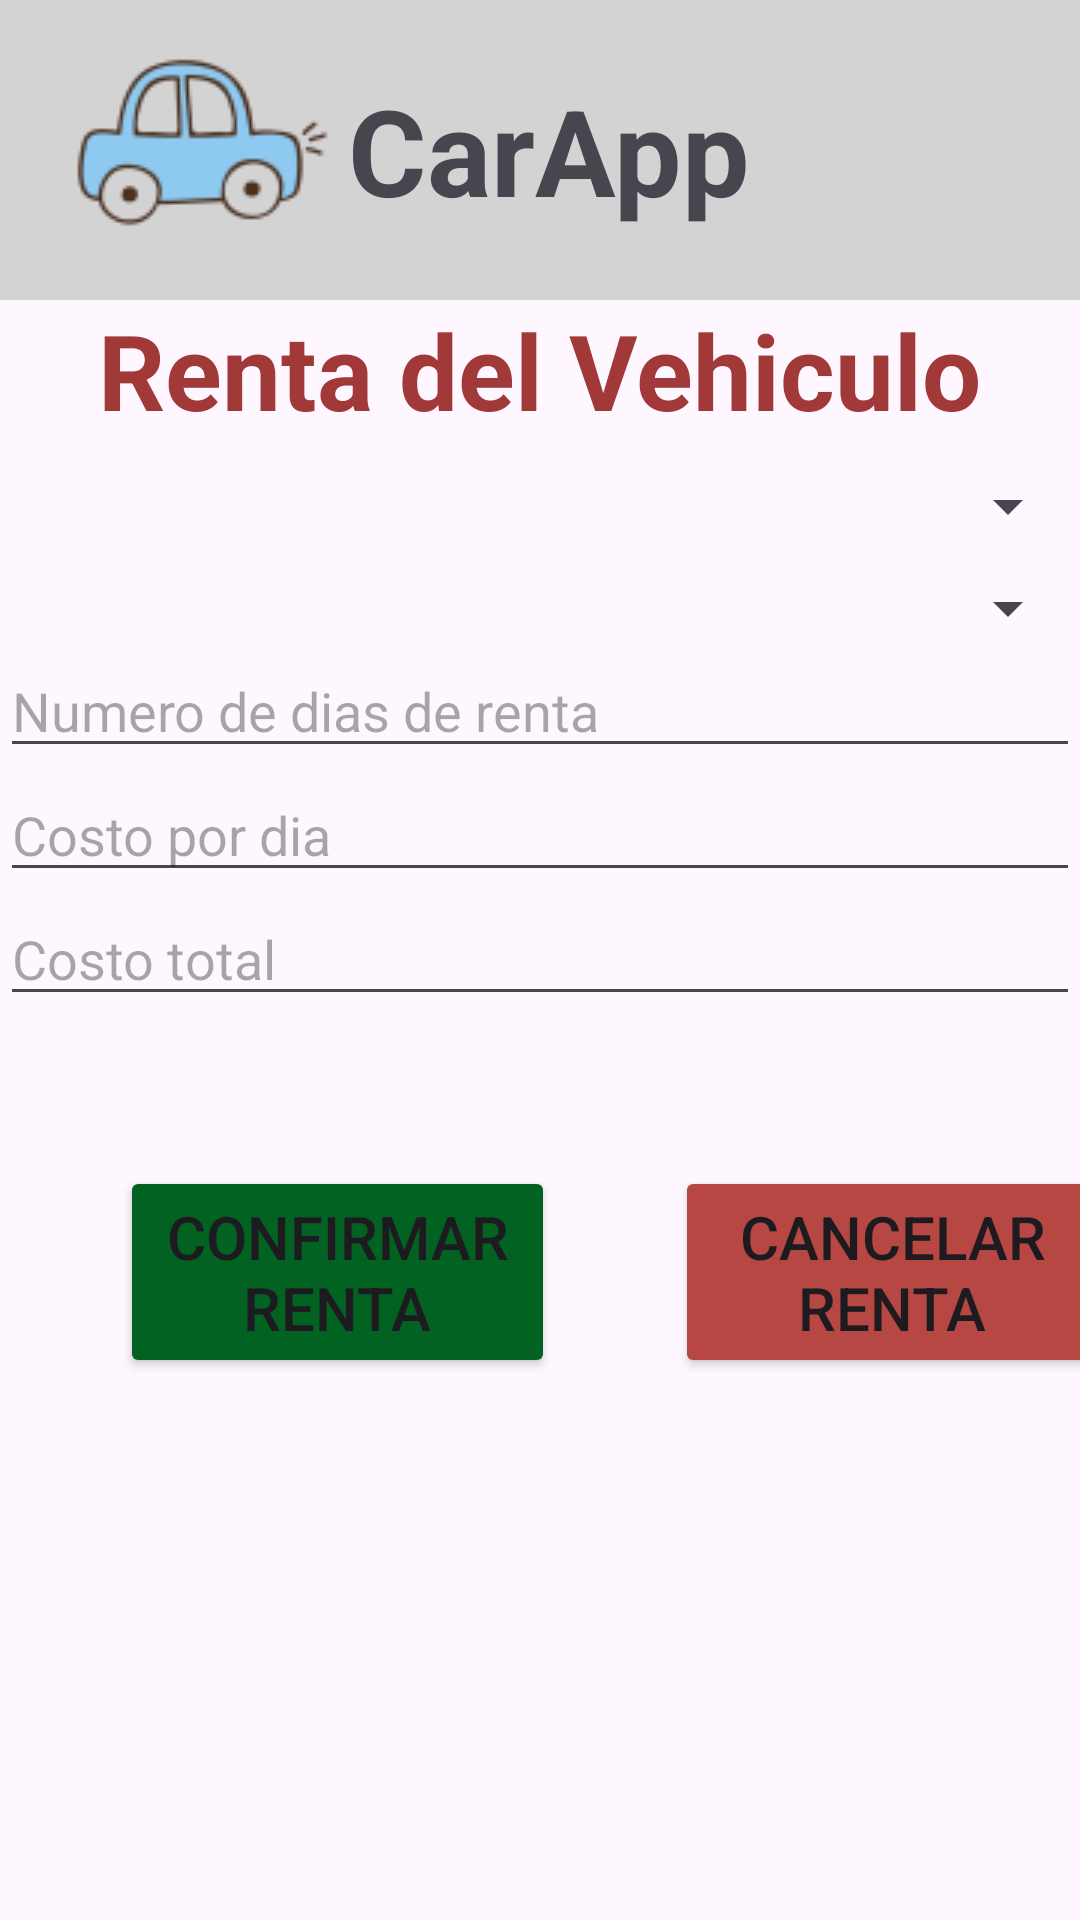

Icon click points for this 1080px x 1920px phone screenshot, format [x,y]:
carrito: [202,142]
